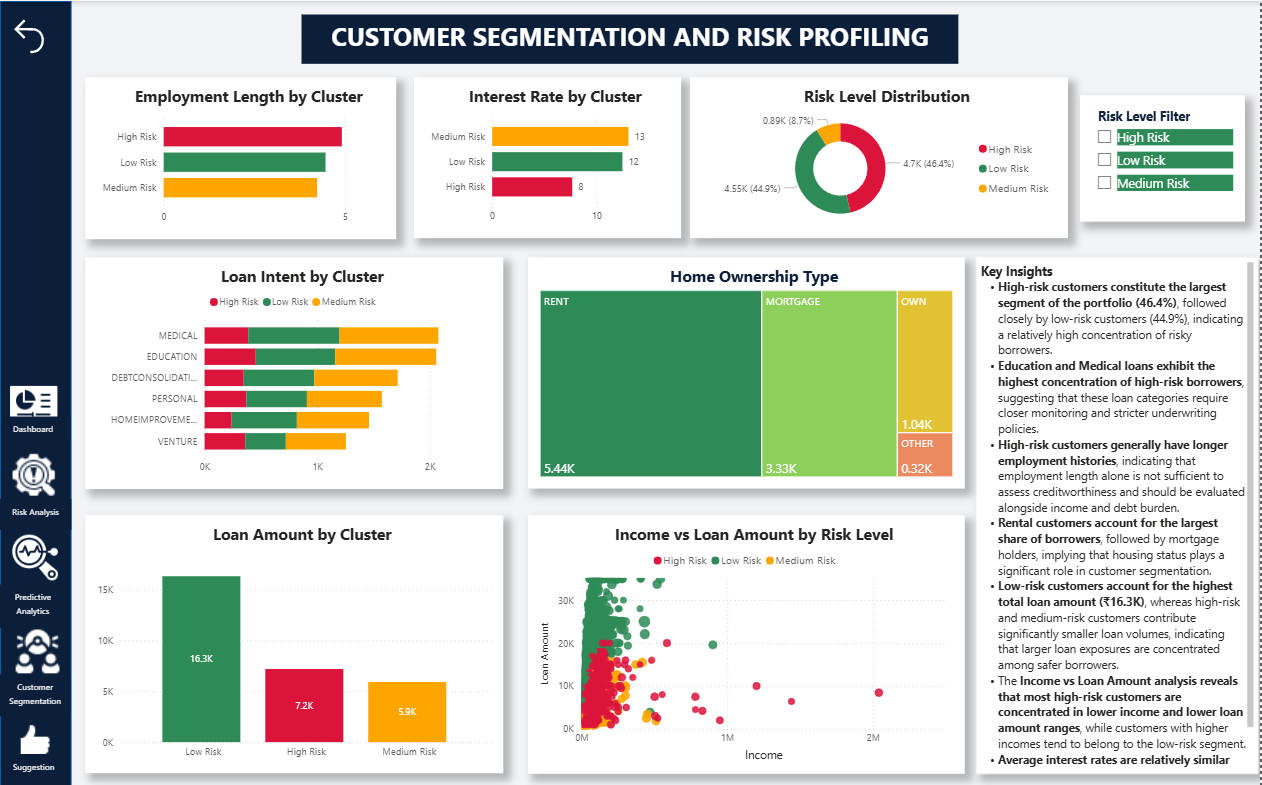

What the dashboard file says about the page in this screenshot:
{"tool":"powerbi","page":{"name":"Customer Segmentation And Risk Profiling","canvas":[1600,1000],"ordinal":4},"visuals":[{"type":"clusteredBarChart","title":"Employment Length by Cluster ","fields":{"Y":["Avg(credit_risk_data.person_emp_length)"],"Category":["credit_risk_data.Cluster_Name"]},"box":[108.6,96.7,394.7,205.3],"z":0},{"type":"scatterChart","title":"Income vs Loan Amount by Risk Level","fields":{"Y":["credit_risk_data.loan_amnt"],"X":["credit_risk_data.person_income"],"Series":["credit_risk_data.Cluster_Name"],"Size":["Sum(credit_risk_data.loan_int_rate)"]},"box":[670.9,653.8,554.6,327.8],"z":1000},{"type":"clusteredColumnChart","title":"Loan Amount by Cluster","fields":{"Y":["Avg(credit_risk_data.loan_amnt)"],"Category":["credit_risk_data.Cluster_Name"]},"box":[108.6,653.3,530.9,327.6],"z":2000},{"type":"barChart","title":"Interest Rate by Cluster","fields":{"Category":["credit_risk_data.Cluster_Name"],"Y":["Avg(credit_risk_data.loan_int_rate)"]},"box":[526.1,97.2,339.3,203.9],"z":3000},{"type":"donutChart","title":"Risk Level Distribution","fields":{"Category":["credit_risk_data.Risk_Level"],"Y":["CountNonNull(credit_risk_data.Index)"]},"box":[876.8,97.2,480.3,203.9],"z":4000},{"type":"barChart","title":"Loan Intent by Cluster","fields":{"Category":["credit_risk_data.Loan Purpose"],"Series":["credit_risk_data.Cluster_Name"],"Y":["CountNonNull(credit_risk_data.Index)"]},"box":[108.6,325.7,530.9,294.1],"z":5000},{"type":"textbox","box":[383.1,17.2,834.8,62.9],"z":6000},{"type":"treemap","title":"Home Ownership Type","fields":{"Group":["credit_risk_data.Home Ownership"],"Values":["CountNonNull(credit_risk_data.Cluster_Name)"]},"box":[670.9,325.9,554.6,293.5],"z":7000},{"type":"slicer","fields":{"Values":["credit_risk_data.Cluster_Name"]},"box":[1372.3,120.1,209.7,160.1],"z":8000},{"type":"shape","box":[0,0,90.8,1000.7],"z":9000},{"type":"textbox","box":[1240.8,325.9,358.3,655.7],"z":10000},{"type":"actionButton","box":[9.5,17.2,80.1,55.3],"z":11000},{"type":"image","box":[9.5,480.3,66.7,62.9],"z":12000},{"type":"image","box":[9.5,571.8,66.7,61],"z":13000},{"type":"image","box":[5.7,672.8,78.1,68.6],"z":14000},{"type":"image","box":[5.7,916.8,78.1,49.6],"z":15000},{"type":"image","box":[11.4,796.7,72.4,59.1],"z":16000},{"type":"textbox","box":[11.4,528,78.1,28.6],"z":17000},{"type":"textbox","box":[0,633.6,90.8,39.5],"z":18000},{"type":"textbox","box":[0,741.4,83.9,55.3],"z":19000},{"type":"textbox","box":[0,855.8,89.6,53.4],"z":20000},{"type":"textbox","box":[3.8,956.2,78.1,43.8],"z":21000}]}

Visuals, with their boxes on the page's 1600x1000 design canvas (x1, y1, x2, y2). These are canvas units, not pixel positions in the 1262x785 screenshot, which may show the page scaled, cropped or inside an application window:
"Employment Length by Cluster " clusteredBarChart: <bbox>109, 97, 503, 302</bbox>
"Income vs Loan Amount by Risk Level" scatterChart: <bbox>671, 654, 1226, 982</bbox>
"Loan Amount by Cluster" clusteredColumnChart: <bbox>109, 653, 640, 981</bbox>
"Interest Rate by Cluster" barChart: <bbox>526, 97, 865, 301</bbox>
"Risk Level Distribution" donutChart: <bbox>877, 97, 1357, 301</bbox>
"Loan Intent by Cluster" barChart: <bbox>109, 326, 640, 620</bbox>
textbox: <bbox>383, 17, 1218, 80</bbox>
"Home Ownership Type" treemap: <bbox>671, 326, 1226, 619</bbox>
slicer - credit_risk_data.Cluster_Name: <bbox>1372, 120, 1582, 280</bbox>
shape: <bbox>0, 0, 91, 1001</bbox>
textbox: <bbox>1241, 326, 1599, 982</bbox>
actionButton: <bbox>10, 17, 90, 72</bbox>
image: <bbox>10, 480, 76, 543</bbox>
image: <bbox>10, 572, 76, 633</bbox>
image: <bbox>6, 673, 84, 741</bbox>
image: <bbox>6, 917, 84, 966</bbox>
image: <bbox>11, 797, 84, 856</bbox>
textbox: <bbox>11, 528, 90, 557</bbox>
textbox: <bbox>0, 634, 91, 673</bbox>
textbox: <bbox>0, 741, 84, 797</bbox>
textbox: <bbox>0, 856, 90, 909</bbox>
textbox: <bbox>4, 956, 82, 1000</bbox>
